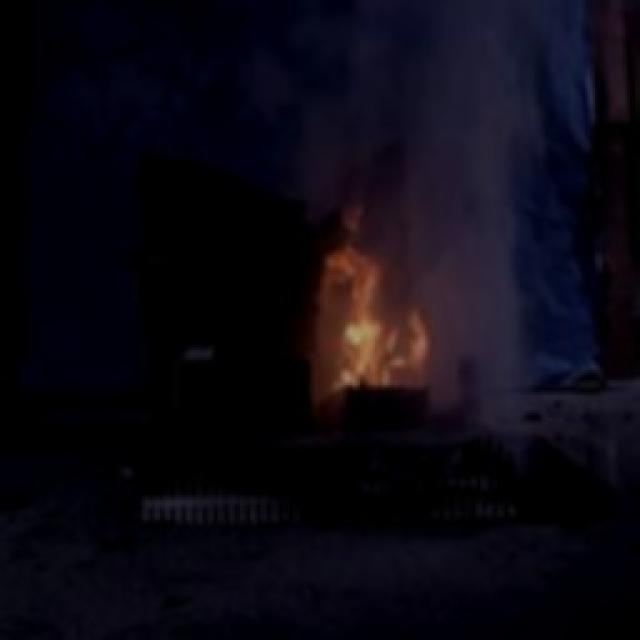fire: (314, 216, 431, 399)
